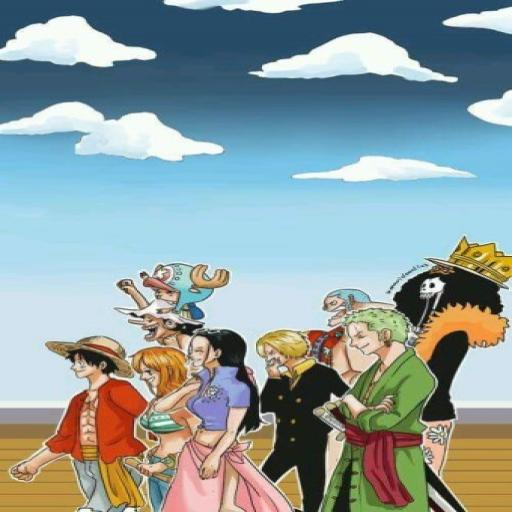Luffy: (42, 329, 141, 391)
Nami: (132, 346, 192, 398)
NicoRobin: (179, 322, 258, 378)
Usopp: (113, 300, 203, 345)
Zoro: (333, 307, 424, 363)
sanji: (246, 327, 324, 382)
